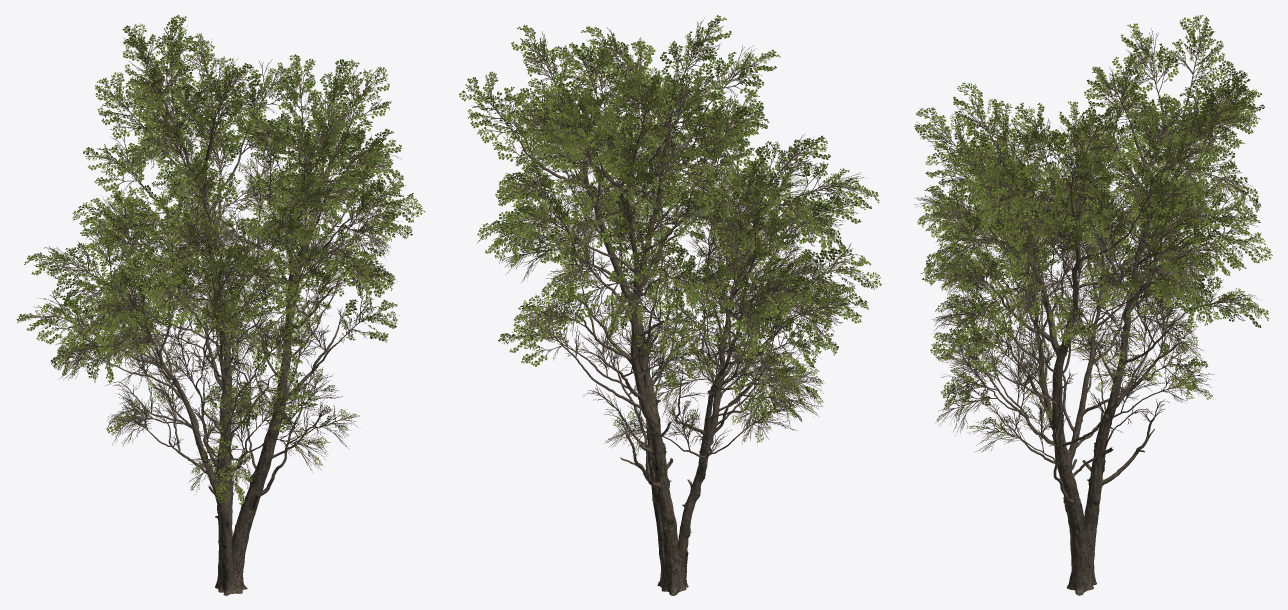
File: SM_BlackAlder_Field_03_PP_LOD1.gltf
3 renders of one model, left to right at view 1: azimuth 30°, elevation 25°; view 2: azimuth 150°, elevation 25°; view 3: azimuth 270°, elevation 25°, orthographic. The views are drawn at different scales.
Parts seen in each view (by area): view 1: SM_BlackAlder_Field_03_PP; view 2: SM_BlackAlder_Field_03_PP; view 3: SM_BlackAlder_Field_03_PP.
Boxes of the visible parts, <box> form: SM_BlackAlder_Field_03_PP: <box>16,15,425,595</box>; SM_BlackAlder_Field_03_PP: <box>459,15,881,595</box>; SM_BlackAlder_Field_03_PP: <box>914,15,1272,595</box>.
Size of the model in its own units: 11.47 by 16.66 by 9.83.
3 materials, 3 textured.
